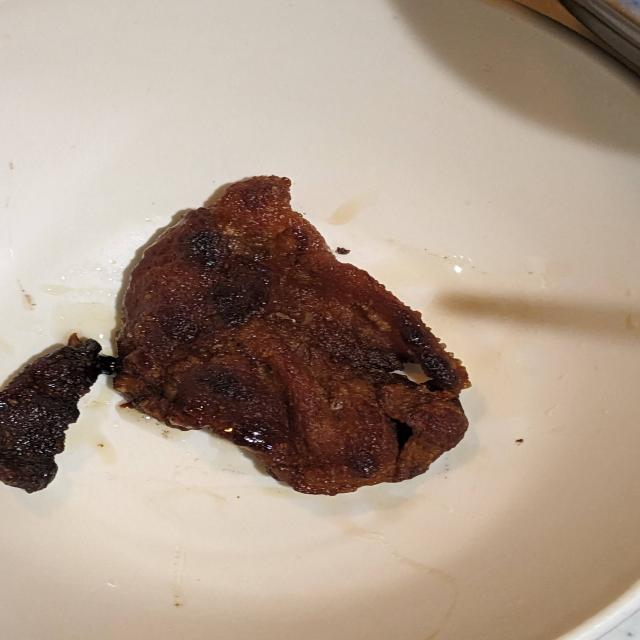overcooked pork: (0, 166, 513, 507)
